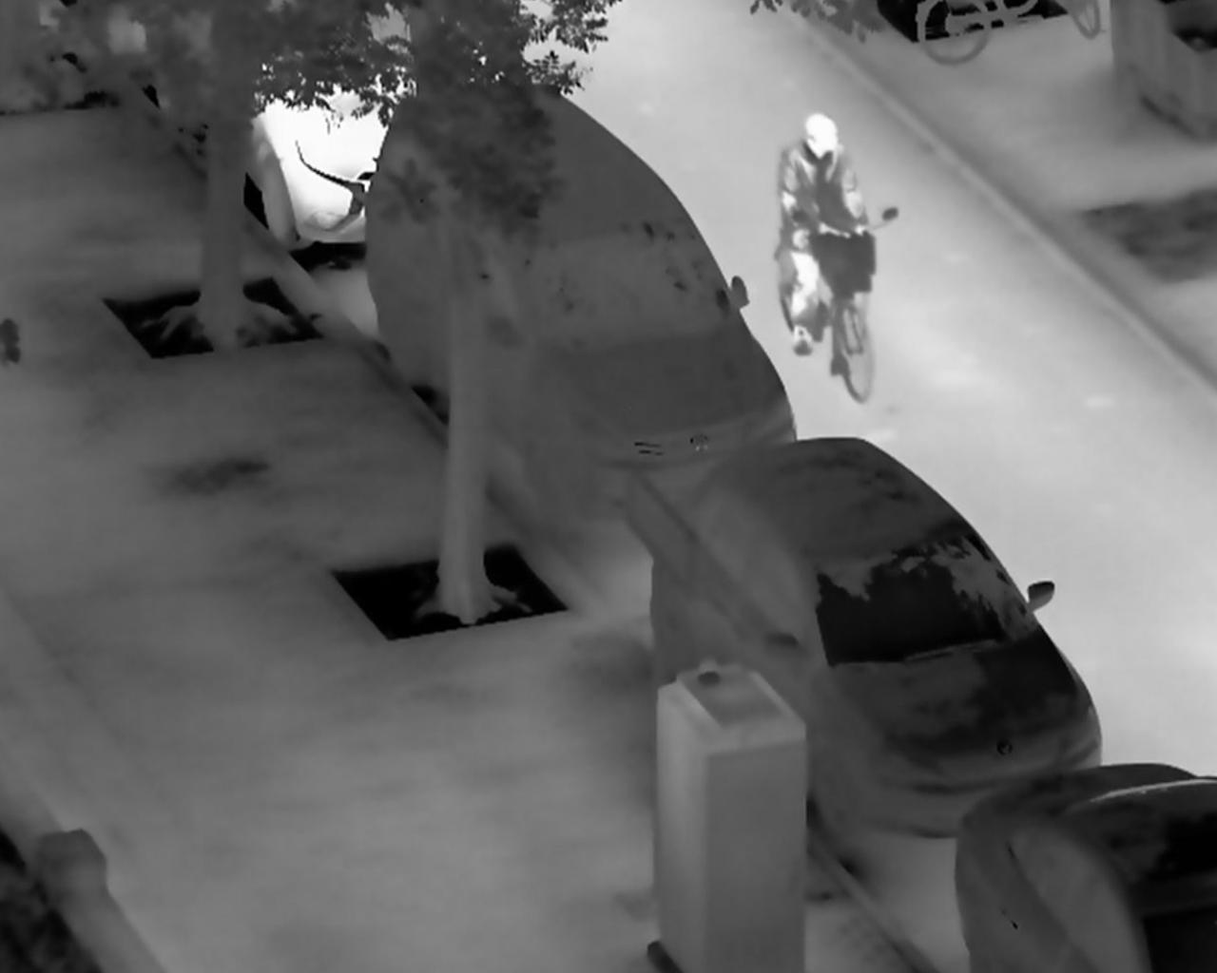person: (774, 106, 880, 359)
